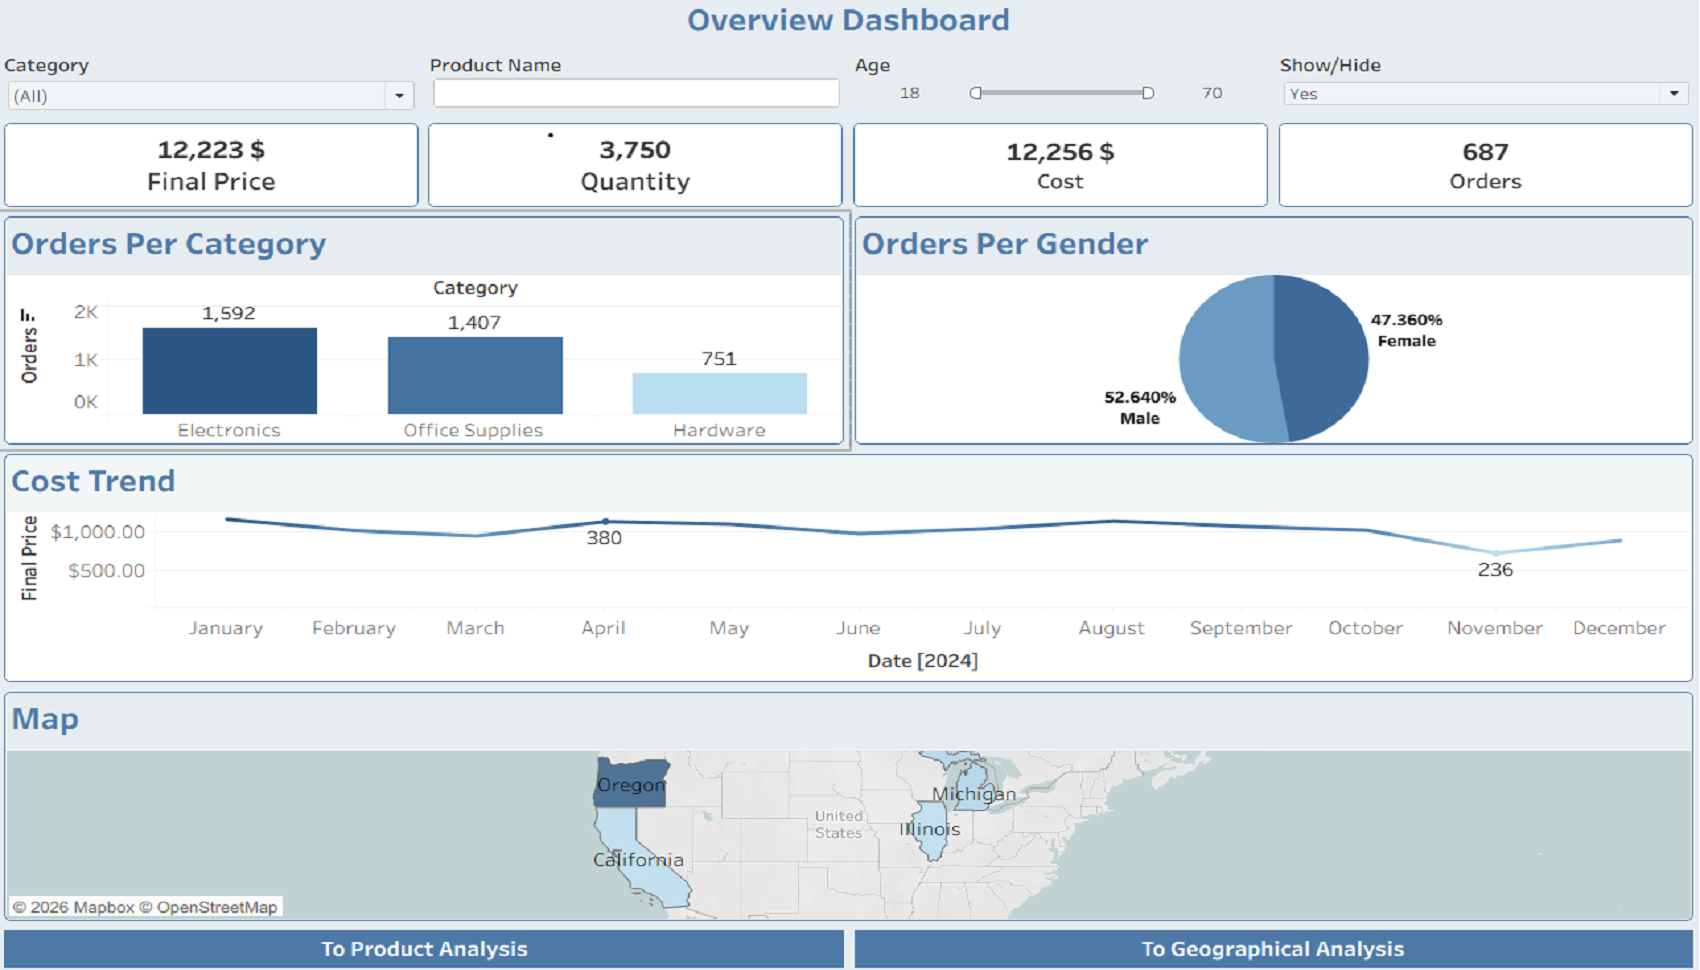

The page's visual inventory and layout, read from the dashboard file:
{"tool":"tableau","page":{"name":"Overview","canvas":[1300,850],"ordinal":1},"visuals":[{"type":"text","box":[6.5,5.7,1287,50]},{"type":"filter","title":"Orders by Category","param":"[federated.1i00knt1xcvo8o19ktvzq1nxt9p2].[none:Category:nk]","box":[7,56,322,60]},{"type":"filter","title":"Cost Trend","param":"[federated.1i00knt1xcvo8o19ktvzq1nxt9p2].[none:Product_Name:nk]","box":[329,56,322,60]},{"type":"filter","title":"Orders by Category","param":"[federated.1i00knt1xcvo8o19ktvzq1nxt9p2].[none:Age:qk]","box":[651,56,322,60]},{"type":"parameter","param":"[Parameters].[Parameter 2]","box":[973,56,321,60]},{"type":"worksheet","title":"Final Price","mark":"Automatic","box":[6.5,115.7,321.8,80]},{"type":"worksheet","title":"Quantity","mark":"Automatic","box":[328.2,115.7,321.8,80]},{"type":"worksheet","title":"Cost","mark":"Automatic","box":[650,115.7,321.8,80]},{"type":"worksheet","title":"Orders","mark":"Automatic","box":[971.8,115.7,321.8,80]},{"type":"worksheet","title":"Orders by Category","mark":"Bar","rows":["Quantity"],"cols":["Category"],"box":[7,196,644,203]},{"type":"worksheet","title":"Orders by Gender","mark":"Pie","box":[651,196,643,203]},{"type":"worksheet","title":"Cost Trend","mark":"Automatic","rows":["Calculation_0517373513994240"],"cols":["Date"],"box":[6.5,399,1287,203.4]},{"type":"worksheet","title":"Map","mark":"Automatic","box":[7,602,1287,204]},{"type":"dashboard-object","box":[7,806,644,40]},{"type":"dashboard-object","box":[651,806,643,40]}]}

Visuals, with their boxes on the page's 1300x850 design canvas (x1, y1, x2, y2). These are canvas units, not pixel positions in the 1700x970 screenshot, which may show the page scaled, cropped or inside an application window:
text: 6 6 1294 56
"Orders by Category" filter: 7 56 329 116
"Cost Trend" filter: 329 56 651 116
"Orders by Category" filter: 651 56 973 116
parameter: 973 56 1294 116
"Final Price" worksheet: 6 116 328 196
"Quantity" worksheet: 328 116 650 196
"Cost" worksheet: 650 116 972 196
"Orders" worksheet: 972 116 1294 196
"Orders by Category" worksheet (Bar marks): 7 196 651 399
"Orders by Gender" worksheet (Pie marks): 651 196 1294 399
"Cost Trend" worksheet: 6 399 1294 602
"Map" worksheet: 7 602 1294 806
dashboard-object: 7 806 651 846
dashboard-object: 651 806 1294 846
